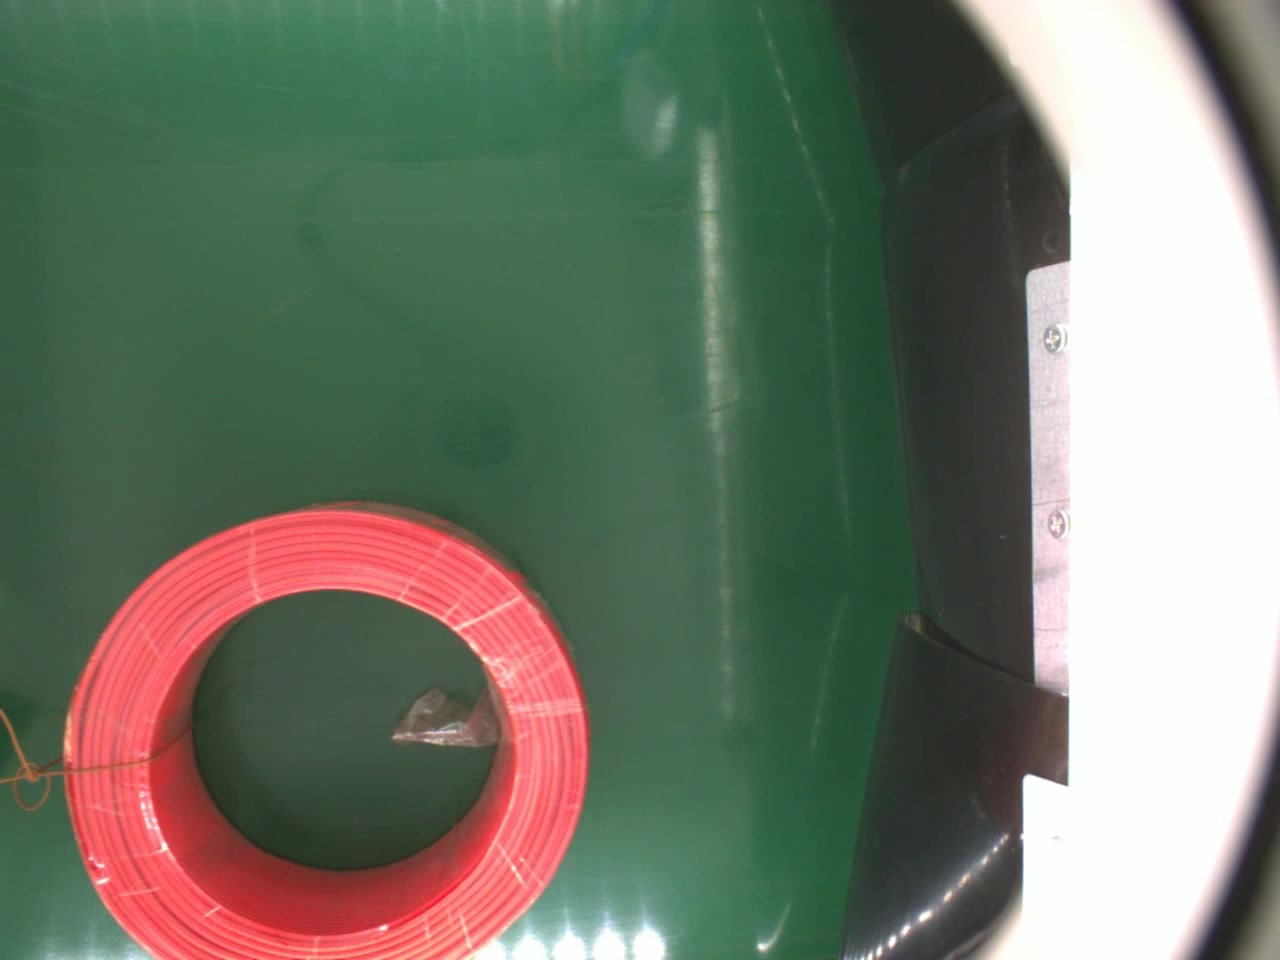red: (60, 497, 592, 958)
